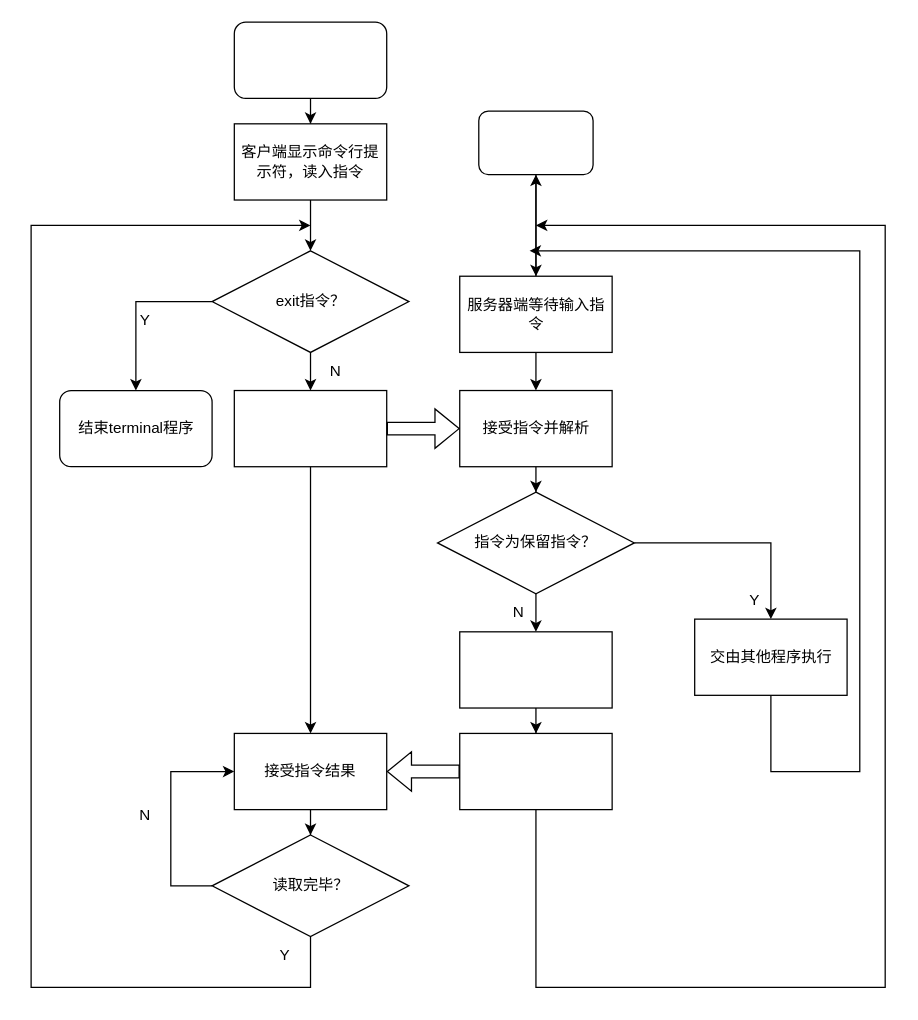
This 918x1020 diagram has some shape labels left out. The centre of each missing label's shape, as x and y in pixels:
发送指令: (x=310, y=428)
发送结果: (x=535, y=771)
启动terminal程序: (x=310, y=59)
服务器端开始: (x=535, y=142)
运行该指令，并获得结果: (x=535, y=669)
